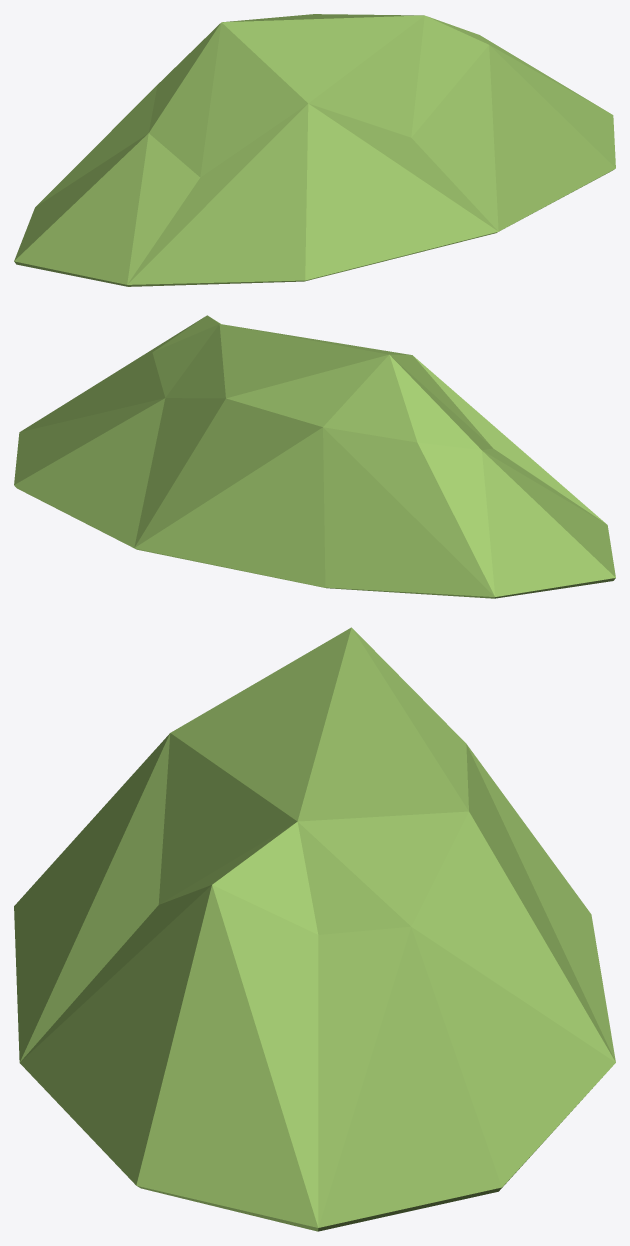
The picture shows the model from 3 angles, top to bottom: view 1: azimuth 30°, elevation 25°; view 2: azimuth 150°, elevation 25°; view 3: azimuth 270°, elevation 25°; orthographic projection. The views are drawn at different scales.
Visible parts, largest first — view 1: Hill_Ridge_A_Geometry; view 2: Hill_Ridge_A_Geometry; view 3: Hill_Ridge_A_Geometry.
Part boxes in pixels (left/top/right/bottom): Hill_Ridge_A_Geometry: left=14, top=14, right=615, bottom=286; Hill_Ridge_A_Geometry: left=14, top=315, right=615, bottom=598; Hill_Ridge_A_Geometry: left=14, top=627, right=615, bottom=1231.
Bounding box in the file's own units: 2.75 × 0.8 × 1.45.
